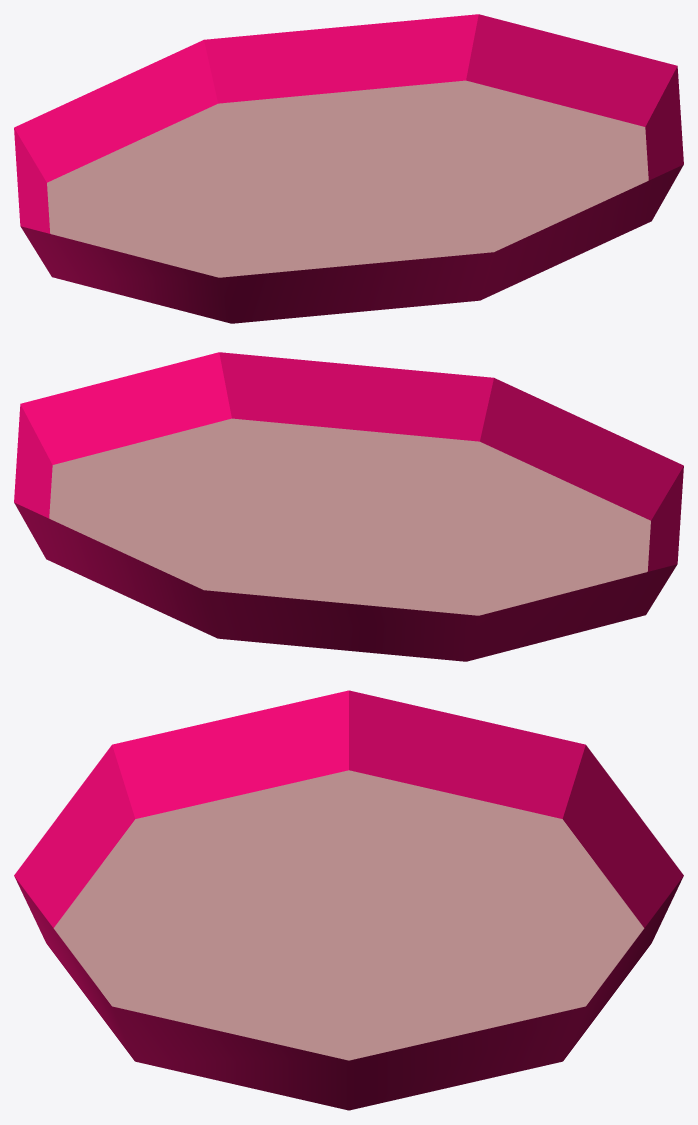
Rendered from Serving_Platter1.fbx.
3 renders of one model, top to bottom at view 1: azimuth 30°, elevation 25°; view 2: azimuth 150°, elevation 25°; view 3: azimuth 270°, elevation 25°, orthographic. The views are drawn at different scales.
Parts seen in each view (by area): view 1: Serving_Platter1; view 2: Serving_Platter1; view 3: Serving_Platter1.
Boxes of the visible parts, bbox=[...] form: Serving_Platter1: bbox=[14, 14, 683, 323]; Serving_Platter1: bbox=[14, 352, 683, 661]; Serving_Platter1: bbox=[14, 690, 683, 1110].
Bounding box in the file's own units: 54.82 × 4.68 × 41.92.
